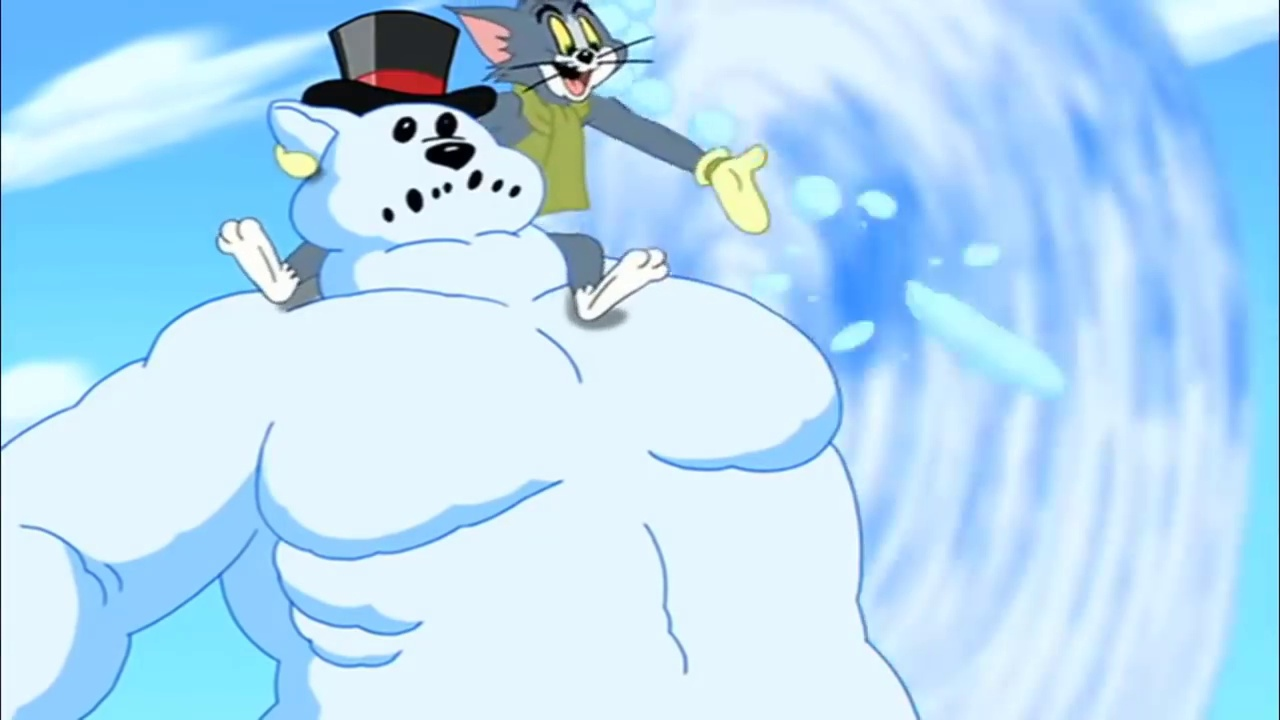face: (525, 2, 610, 103)
